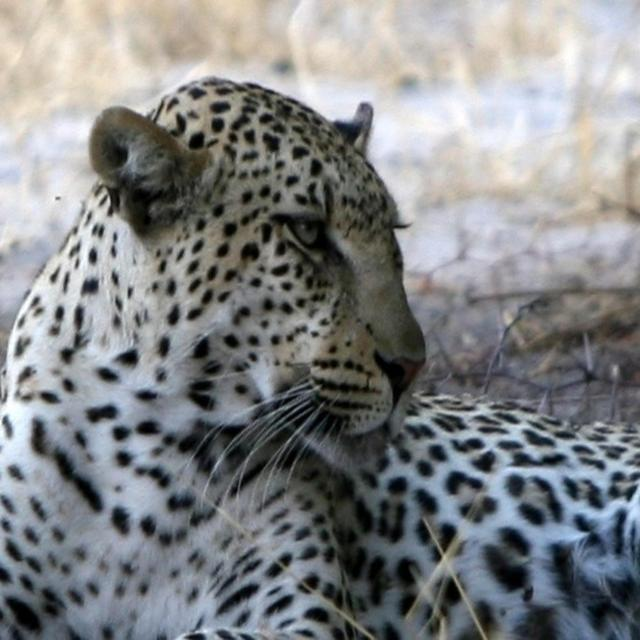Leopard: (10, 49, 625, 640)
